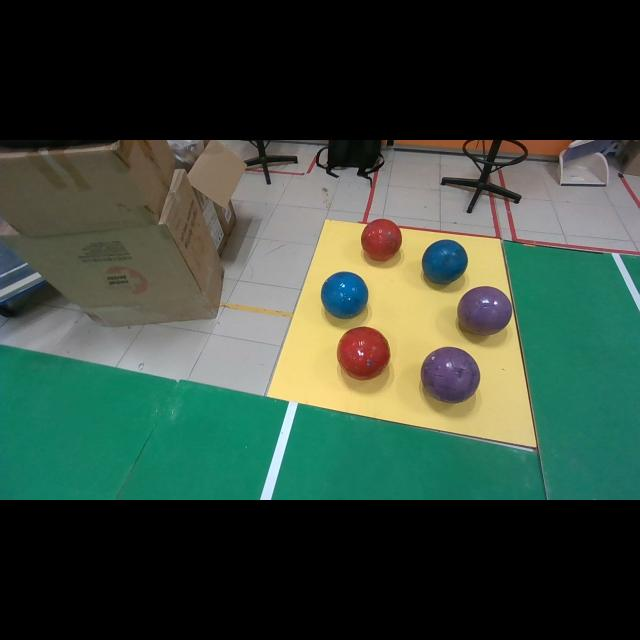B: (321, 271, 369, 319), (422, 240, 468, 284)
P: (421, 348, 480, 403), (458, 286, 512, 335)
R: (338, 326, 390, 380), (361, 219, 402, 261)
